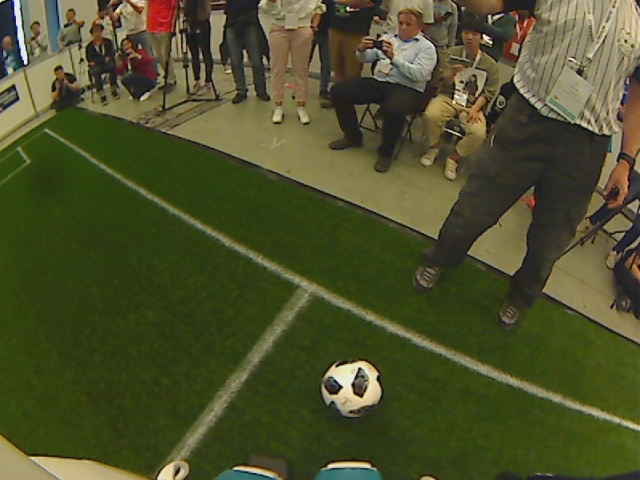ball: (321, 360, 381, 415)
